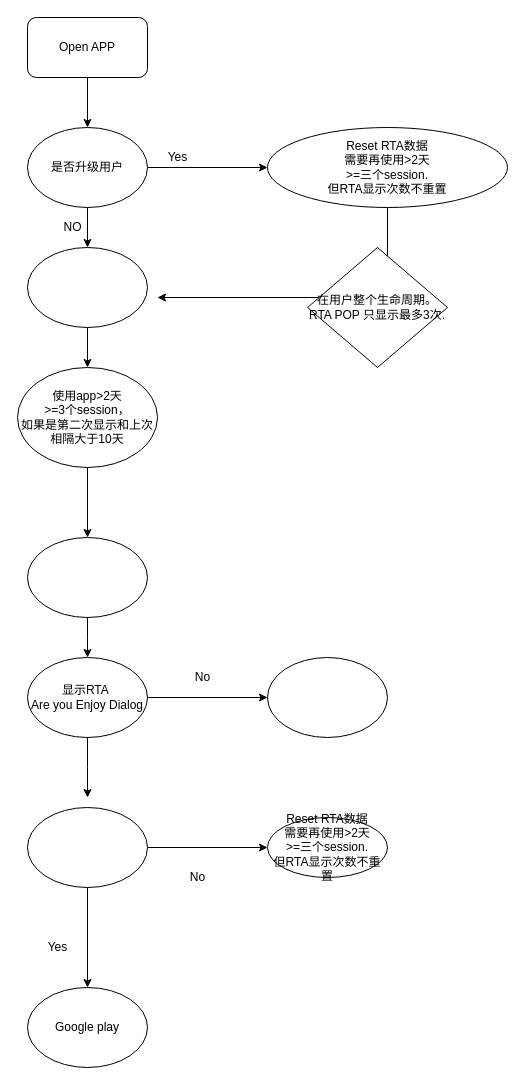
Image size: 525x1085. Some labels were removed from this diagram. The centre of each missing label's shape, as x and y in pixels:
"Go to Feedback" goes at (x=327, y=697).
"Rta显示次数小于3" goes at (x=87, y=287).
"显示 是否去rete" goes at (x=87, y=847).
"没有完成RTA" goes at (x=87, y=577).
